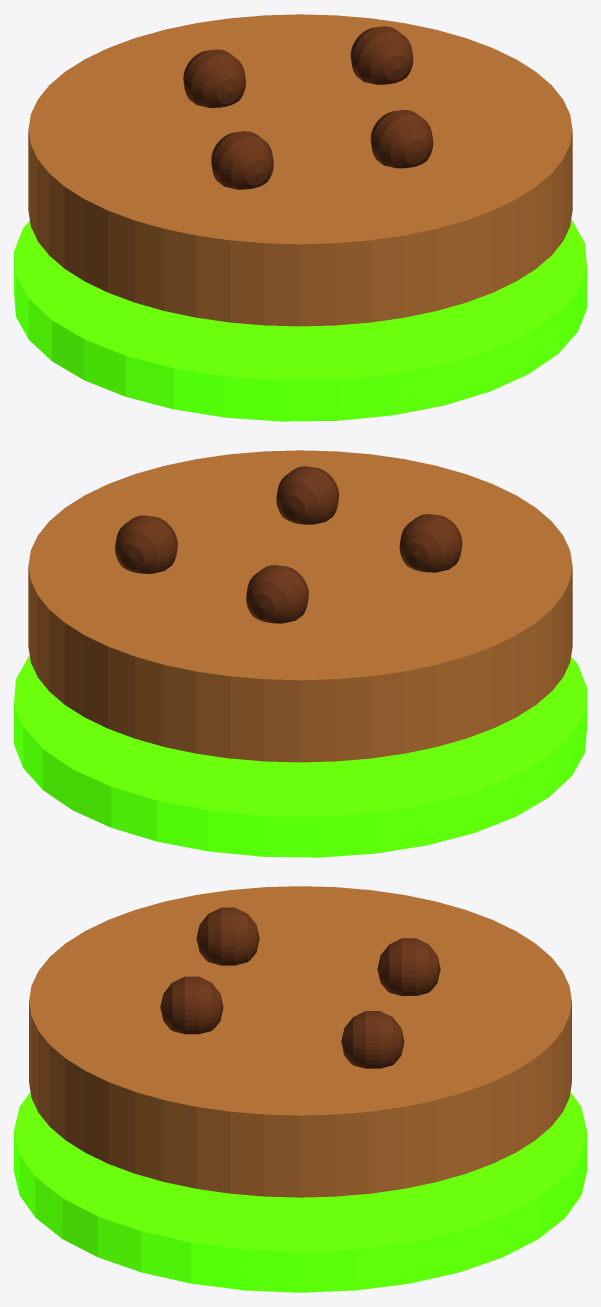
File: food_cookie.dae
The picture shows the model from 3 angles, top to bottom: view 1: azimuth 30°, elevation 25°; view 2: azimuth 150°, elevation 25°; view 3: azimuth 270°, elevation 25°; orthographic projection.
Visible parts, largest first — view 1: 01_19_Popular_Food_Cookie_part_01, 01_19_Popular_Food_Cookie_ROOT_base, 01_19_Popular_Food_Cookie_part_04, 01_19_Popular_Food_Cookie_part_02, 01_19_Popular_Food_Cookie_part_05, 01_19_Popular_Food_Cookie_part_03; view 2: 01_19_Popular_Food_Cookie_part_01, 01_19_Popular_Food_Cookie_ROOT_base, 01_19_Popular_Food_Cookie_part_05, 01_19_Popular_Food_Cookie_part_04, 01_19_Popular_Food_Cookie_part_02, 01_19_Popular_Food_Cookie_part_03; view 3: 01_19_Popular_Food_Cookie_part_01, 01_19_Popular_Food_Cookie_ROOT_base, 01_19_Popular_Food_Cookie_part_03, 01_19_Popular_Food_Cookie_part_02, 01_19_Popular_Food_Cookie_part_04, 01_19_Popular_Food_Cookie_part_05.
Boxes of the visible parts, x1,y1,x2,y2 form: 01_19_Popular_Food_Cookie_part_01: [28, 14, 572, 326]; 01_19_Popular_Food_Cookie_ROOT_base: [14, 220, 586, 421]; 01_19_Popular_Food_Cookie_part_04: [350, 26, 413, 84]; 01_19_Popular_Food_Cookie_part_02: [211, 131, 273, 189]; 01_19_Popular_Food_Cookie_part_05: [183, 49, 245, 107]; 01_19_Popular_Food_Cookie_part_03: [370, 110, 433, 168]; 01_19_Popular_Food_Cookie_part_01: [28, 450, 572, 762]; 01_19_Popular_Food_Cookie_ROOT_base: [14, 656, 586, 857]; 01_19_Popular_Food_Cookie_part_05: [246, 565, 308, 623]; 01_19_Popular_Food_Cookie_part_04: [115, 515, 177, 573]; 01_19_Popular_Food_Cookie_part_02: [399, 514, 462, 572]; 01_19_Popular_Food_Cookie_part_03: [276, 466, 338, 524]; 01_19_Popular_Food_Cookie_part_01: [29, 886, 571, 1197]; 01_19_Popular_Food_Cookie_ROOT_base: [14, 1092, 586, 1292]; 01_19_Popular_Food_Cookie_part_03: [160, 976, 223, 1034]; 01_19_Popular_Food_Cookie_part_02: [196, 907, 259, 965]; 01_19_Popular_Food_Cookie_part_04: [341, 1011, 404, 1068]; 01_19_Popular_Food_Cookie_part_05: [377, 938, 440, 995].
Bounding box in the file's own units: 0.76 × 0.3149 × 0.76.
